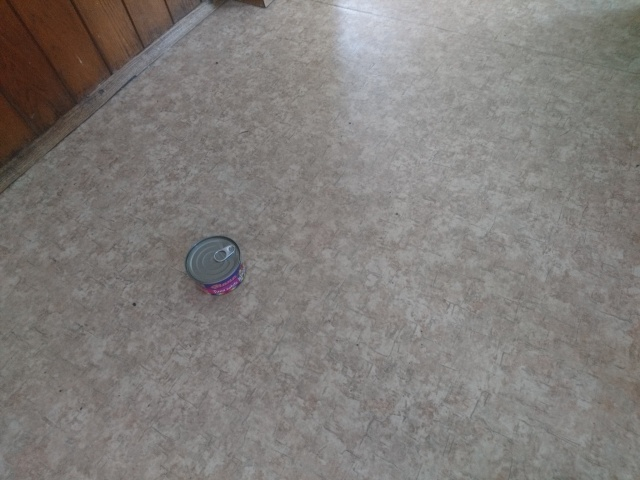Giana Tuna Salad Mexico 185g: (182, 233, 248, 298)
